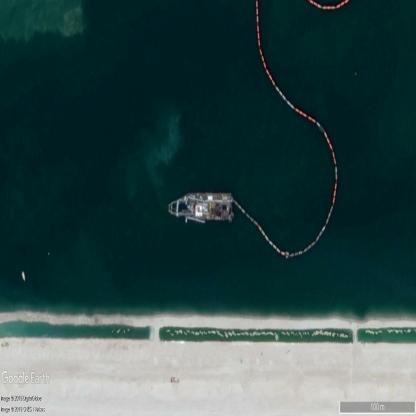ship: (168, 193, 234, 222), (22, 270, 26, 283)
